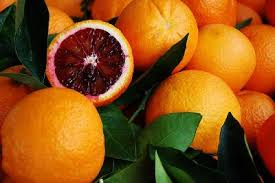orange: (1, 78, 113, 183), (149, 59, 244, 161), (120, 1, 202, 79)
